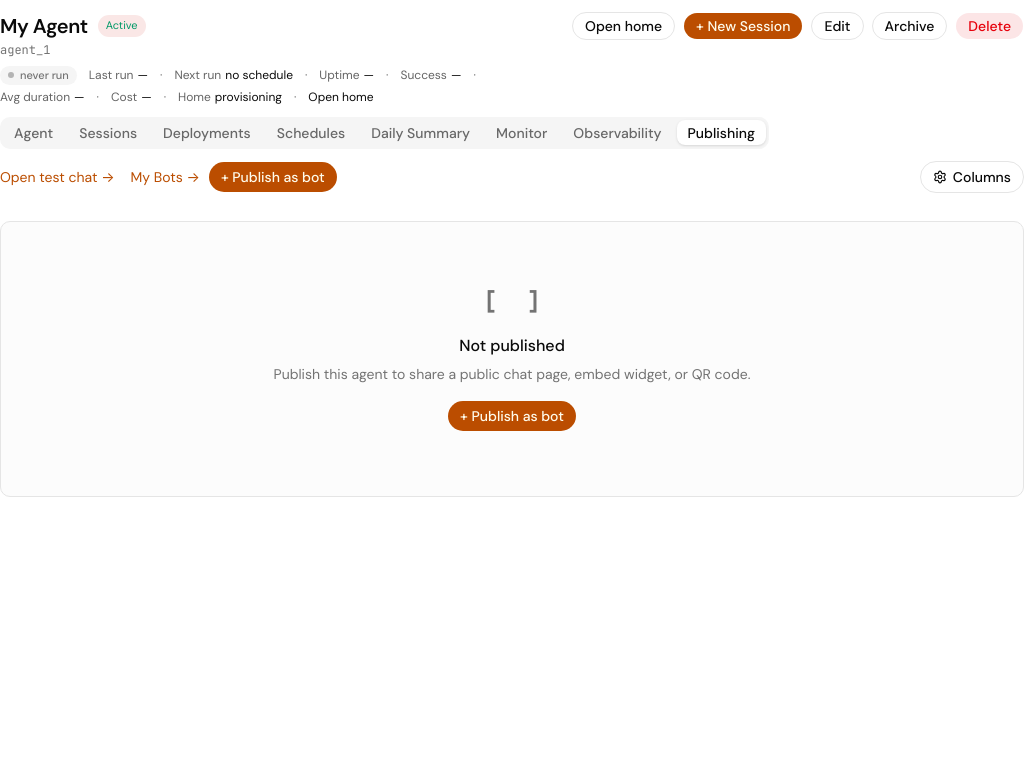
Test case: <AgentPublishingTab /> › publishes an agent live and lists it
Expected: the text "Not published" is shown, [459, 335, 565, 356]
Click the button "+ Publish as bot" next to "My Bots →". click: [273, 177]
box: [208, 161, 338, 193]
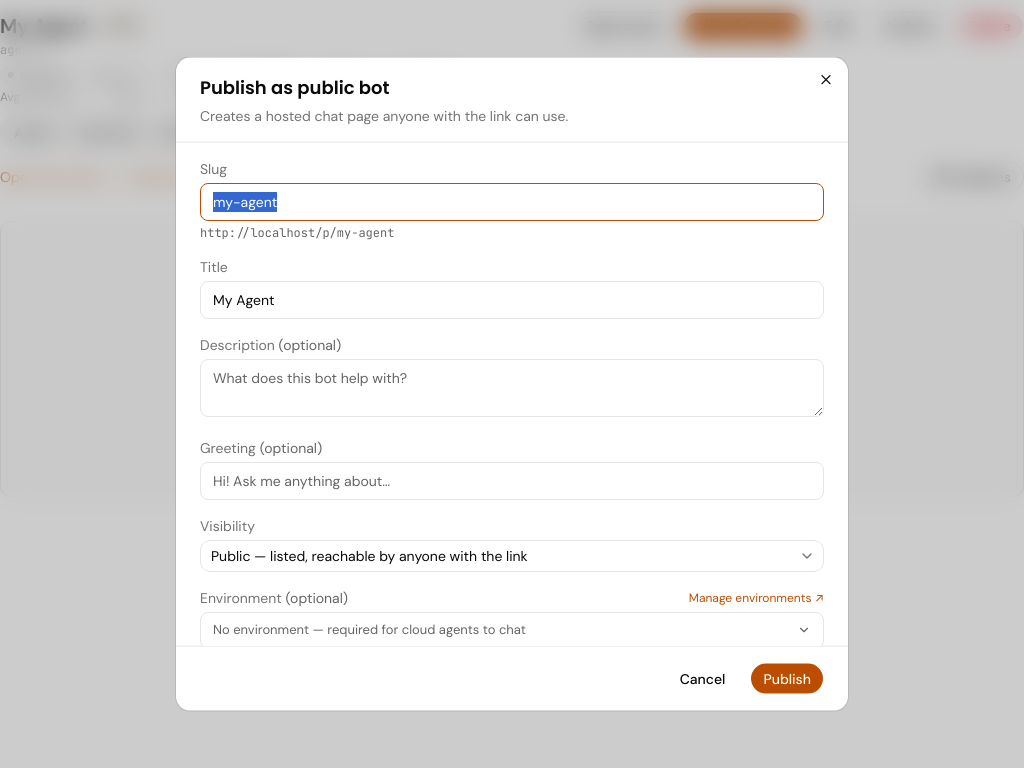
Result: the heading "Publish as public bot" is shown at [200, 75, 390, 100]
Click the button "Publish". click: [787, 678]
box: [750, 662, 824, 694]
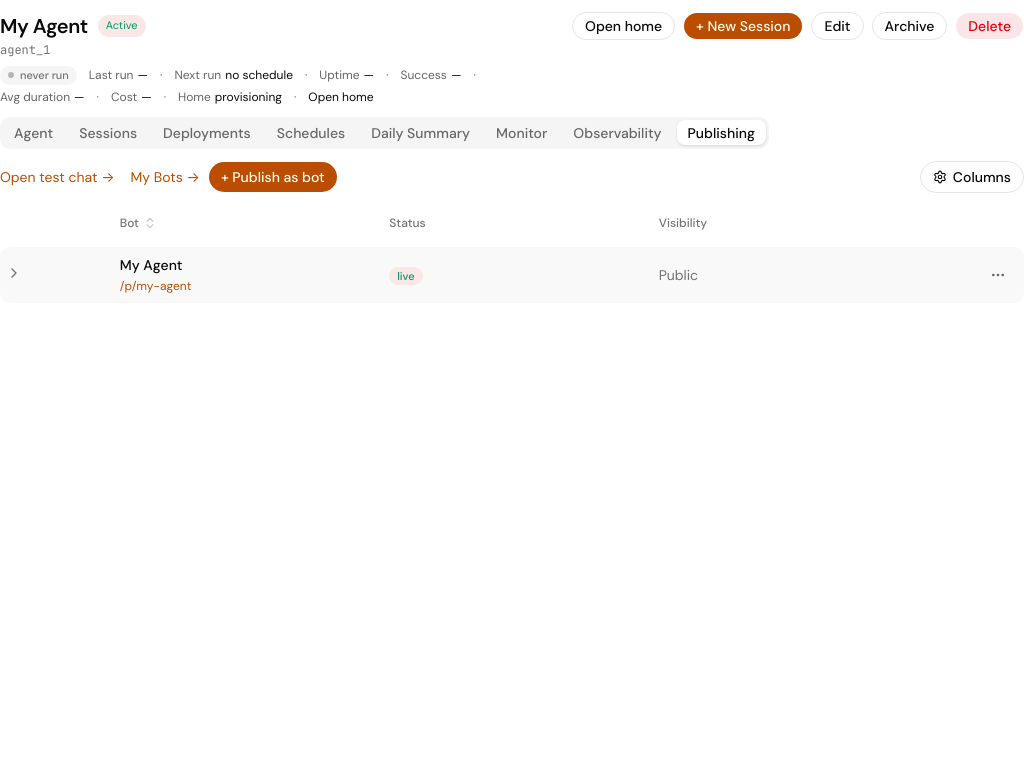
Result: the heading "Publish as public bot" is gone
Result: the link "/p/my-agent" is shown at [120, 278, 192, 294]
Result: the text "live" is shown at [389, 267, 423, 285]
